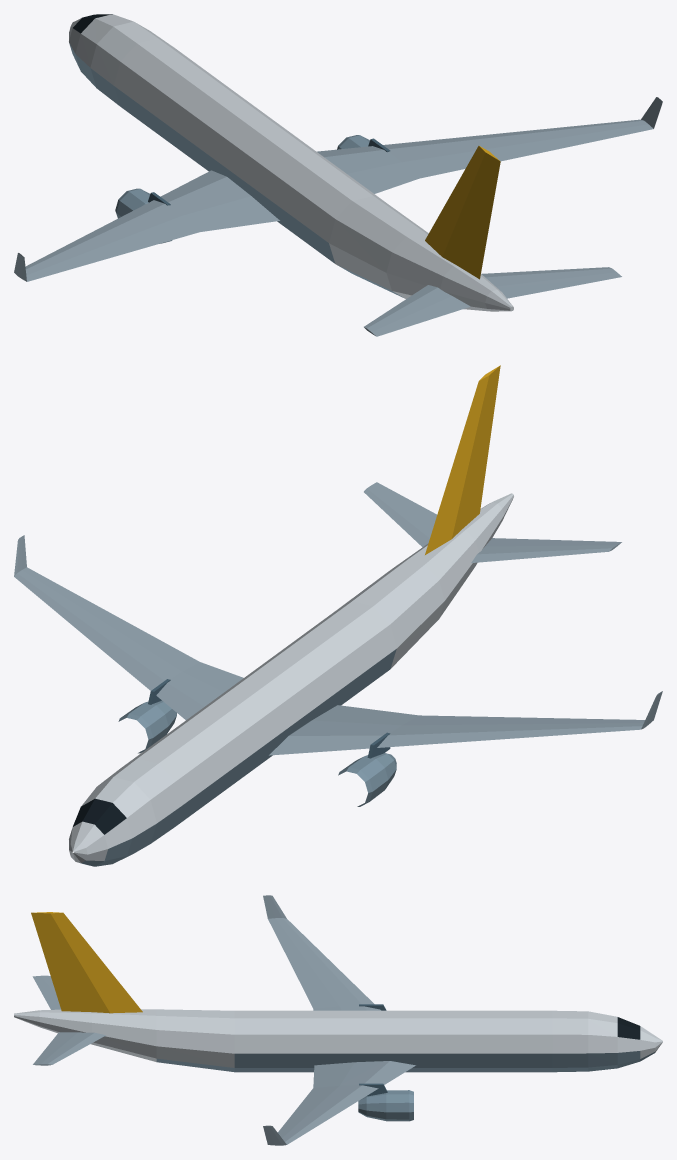
3 renders of one model, top to bottom at view 1: azimuth 30°, elevation 25°; view 2: azimuth 150°, elevation 25°; view 3: azimuth 270°, elevation 25°, orthographic. The views are drawn at different scales.
Visible parts, largest first — view 1: lod0; view 2: lod0; view 3: lod0.
Boxes of the visible parts, bbox=[...] form: lod0: bbox=[14, 14, 662, 336]; lod0: bbox=[14, 365, 662, 866]; lod0: bbox=[14, 895, 662, 1145].
Size of what is drawn, in the model's own units: 0.8397 by 0.2841 by 1.
